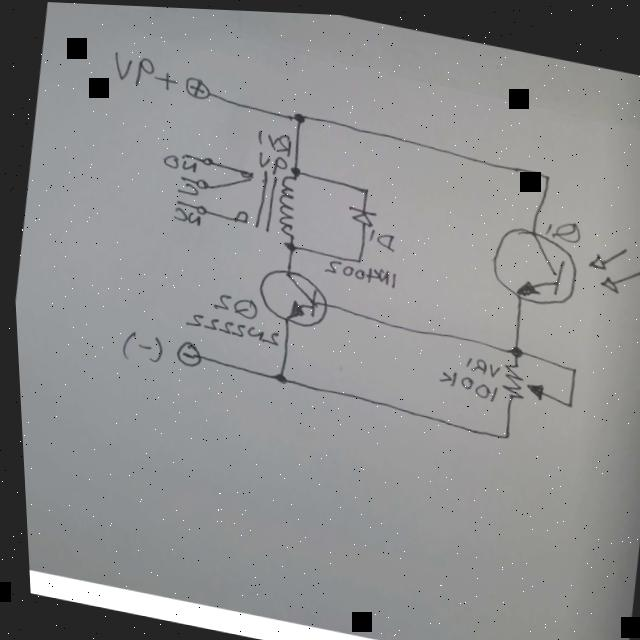diode: (341, 199, 377, 226)
junction: (537, 165, 553, 180), (289, 106, 305, 121), (347, 248, 363, 263), (561, 355, 576, 371), (558, 391, 574, 406), (286, 159, 301, 174), (279, 235, 295, 249), (505, 339, 521, 353), (495, 423, 511, 437), (355, 180, 370, 194), (268, 368, 283, 382)
resistor: (492, 353, 549, 404)
terminal: (167, 334, 204, 368), (178, 68, 215, 102), (176, 146, 190, 163), (170, 191, 184, 207), (176, 166, 189, 183)
text: (175, 304, 280, 345), (430, 344, 500, 399), (108, 46, 179, 91), (322, 251, 396, 287), (246, 124, 295, 175), (114, 322, 164, 366), (206, 286, 256, 320), (537, 209, 581, 239), (158, 149, 199, 173), (364, 222, 396, 251), (166, 202, 201, 226), (173, 176, 198, 196)
transistor: (481, 214, 640, 320), (249, 260, 330, 328)
